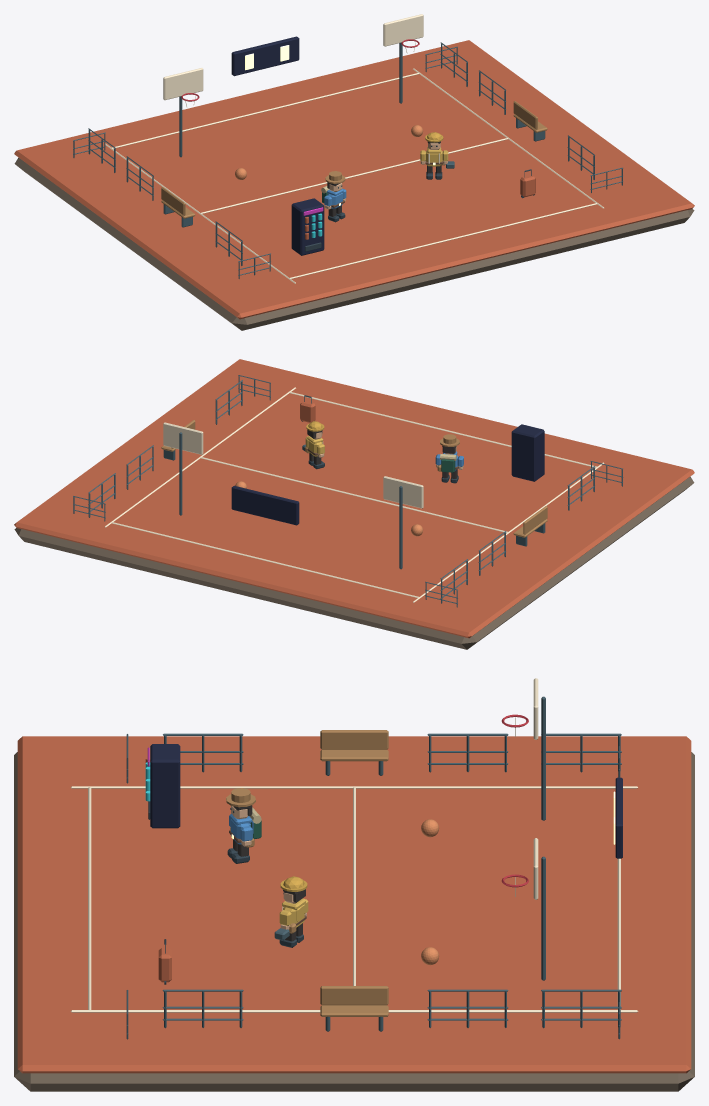
Rendered from world-basketball.glb.
3 views of the same model, one above another, from view 1: azimuth 30°, elevation 25°; view 2: azimuth 150°, elevation 25°; view 3: azimuth 270°, elevation 25° (orthographic). The views are drawn at different scales.
Parts seen in each view (by area): view 1: terrain-top, terrain-stratum, scoreboard, vending-body.001, backboard.001, backboard.002, court-line, court-line.001, court-line.002; view 2: terrain-top, terrain-stratum, vending-body.001, scoreboard, backboard.002, backboard.001, court-line.001, court-line.002, court-line, court-sideline.001; view 3: terrain-top, terrain-stratum, vending-body.001, court-sideline, court-sideline.001, bench-back.001, bench-back.002, court-line, bench-seat.001, bench-seat.002, scoreboard.
Boxes of the visible parts, box(x1,y1,x2,y2) form: terrain-top: box(14, 40, 694, 319); terrain-stratum: box(14, 157, 694, 330); scoreboard: box(231, 36, 299, 76); vending-body.001: box(291, 198, 324, 255); backboard.001: box(163, 68, 203, 100); backboard.002: box(383, 14, 423, 46); court-line: box(290, 203, 597, 278); court-line.001: box(112, 72, 419, 148); court-line.002: box(201, 138, 508, 213); terrain-top: box(14, 359, 694, 638); terrain-stratum: box(14, 476, 694, 649); vending-body.001: box(511, 424, 544, 481); scoreboard: box(231, 485, 299, 525); backboard.002: box(163, 422, 203, 454); backboard.001: box(383, 476, 423, 508); court-line.001: box(111, 522, 418, 597); court-line.002: box(200, 457, 507, 532); court-line: box(289, 391, 596, 467); court-sideline.001: box(105, 387, 295, 527); terrain-top: box(17, 736, 691, 1073); terrain-stratum: box(14, 752, 694, 1091); vending-body.001: box(150, 744, 180, 828); court-sideline: box(71, 786, 637, 788); court-sideline.001: box(70, 1010, 638, 1012); bench-back.001: box(320, 730, 388, 749); bench-back.002: box(320, 986, 388, 1005); court-line: box(88, 787, 91, 1009); bench-seat.001: box(320, 749, 388, 761); bench-seat.002: box(320, 1005, 388, 1016); scoreboard: box(615, 777, 622, 858).
Size of the model in its own units: 21 by 4.64 by 18.
